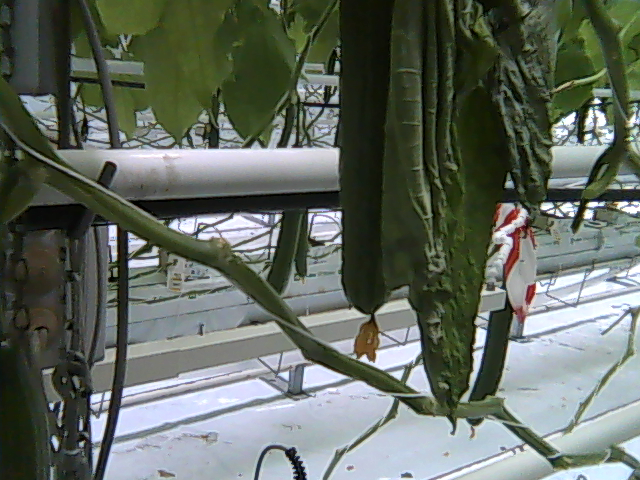concombre: (333, 1, 396, 361)
